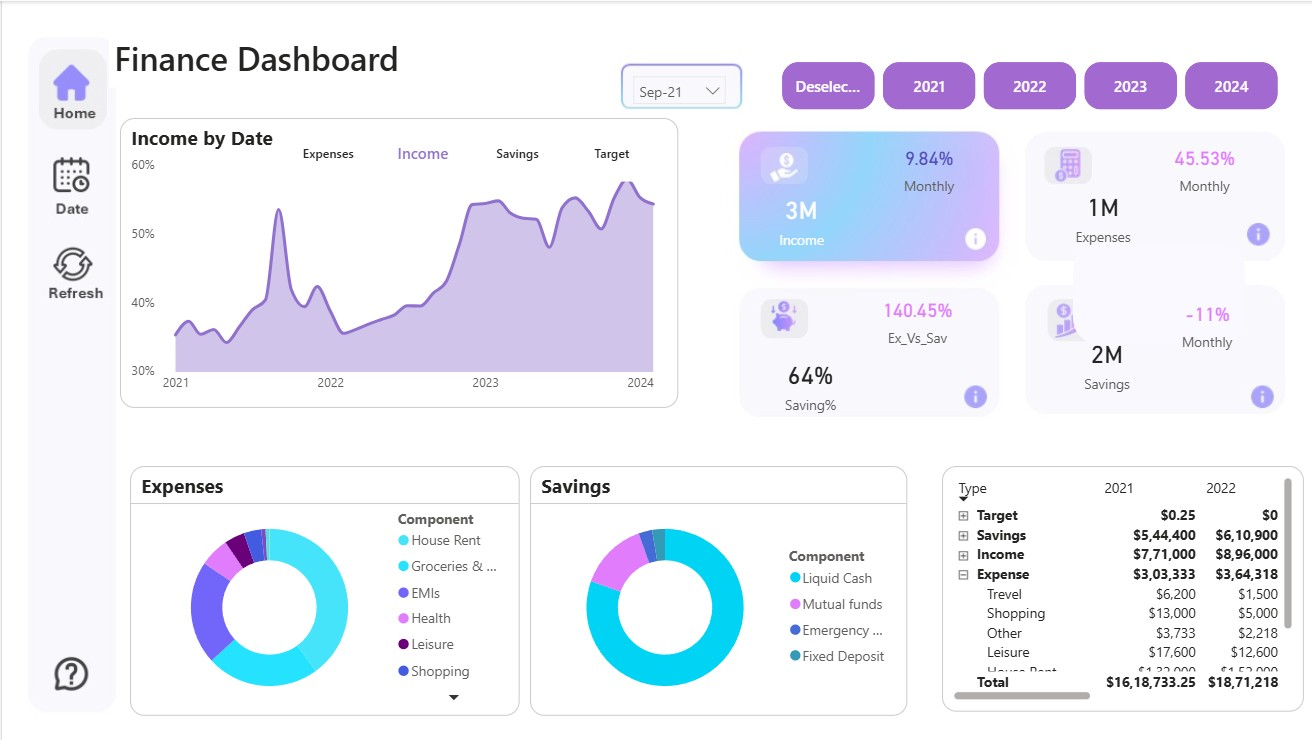

What the dashboard file says about the page in this screenshot:
{"tool":"powerbi","page":{"name":"Page 1","canvas":[1280,720],"ordinal":0},"visuals":[{"type":"shape","box":[1041.7,236.4,167.3,97.3],"z":0},{"type":"areaChart","fields":{"Category":["Dataset.Date"],"Y":["Dataset.Line_chart_measure"]},"box":[114.8,113.8,542.7,282.1],"z":1000},{"type":"advancedSlicerVisual","fields":{"Values":["Line_selection_Table.Type"]},"box":[270,120,370,56.2],"z":2000},{"type":"card","fields":{"Values":["Dataset.Income"]},"box":[730.5,176,94.3,71],"z":3000},{"type":"card","fields":{"Values":["Dataset.Savings"]},"box":[1032,310.3,85.6,82.7],"z":4000},{"type":"card","fields":{"Values":["Dataset.Exprnses"]},"box":[1031,170.2,79.8,76.8],"z":5000},{"type":"card","fields":{"Values":["Dataset.Saving%"]},"box":[743.1,333.6,86.6,75.9],"z":6000},{"type":"advancedSlicerVisual","fields":{"Values":["Dataset.Year"]},"box":[753.8,54.5,496,56.4],"z":7000},{"type":"donutChart","title":"Expenses ","fields":{"Category":["Dataset.Component"],"Y":["Dataset.Expenses"]},"box":[124.5,452.3,379.3,243.2],"z":8000},{"type":"donutChart","title":"Savings  ","fields":{"Y":["Dataset.Savings"],"Category":["Dataset.Component"]},"box":[513.6,452.3,366.7,243.2],"z":9000},{"type":"pivotTable","fields":{"Values":["Dataset.Total_Value"],"Rows":["Dataset.Type","Dataset.Component"],"Columns":["Dataset.Year"]},"box":[914.3,452.3,352.1,239.3],"z":10000},{"type":"textbox","box":[104.1,28.2,354,56.4],"z":11000},{"type":"slicer","fields":{"Values":["Selected_Date.Month_Yr"]},"box":[604,63.2,109.9,37.9],"z":12000},{"type":"card","fields":{"Values":["Dataset.Income_Monthly_Gr"]},"box":[852,123.5,99.2,76.8],"z":13000},{"type":"card","fields":{"Values":["Dataset.Expenses_Monthly_Gr"]},"box":[1125.3,130.3,88.5,63.2],"z":14000},{"type":"card","fields":{"Values":["Dataset.Savings_Monthly_Gr"]},"box":[1135.1,276.2,73.9,75.9],"z":15000},{"type":"card","fields":{"Values":["Dataset.Ex_Vs_Sav"]},"box":[829.7,254.8,121.6,110.9],"z":16000},{"type":"actionButton","box":[41.8,140.9,52.7,57.3],"z":17000},{"type":"actionButton","box":[41.8,236.4,52.7,54.5],"z":19000}]}

Visuals, with their boxes on the page's 1280x720 design canvas (x1, y1, x2, y2). These are canvas units, not pixel positions in the 1312x740 screenshot, which may show the page scaled, cropped or inside an application window:
shape: region(1042, 236, 1209, 334)
areaChart - Dataset.Date x Dataset.Line_chart_measure: region(115, 114, 658, 396)
advancedSlicerVisual - Line_selection_Table.Type: region(270, 120, 640, 176)
card - Dataset.Income: region(730, 176, 825, 247)
card - Dataset.Savings: region(1032, 310, 1118, 393)
card - Dataset.Exprnses: region(1031, 170, 1111, 247)
card - Dataset.Saving%: region(743, 334, 830, 410)
advancedSlicerVisual - Dataset.Year: region(754, 54, 1250, 111)
"Expenses " donutChart: region(124, 452, 504, 696)
"Savings  " donutChart: region(514, 452, 880, 696)
pivotTable - Dataset.Total_Value x Dataset.Type: region(914, 452, 1266, 692)
textbox: region(104, 28, 458, 85)
slicer - Selected_Date.Month_Yr: region(604, 63, 714, 101)
card - Dataset.Income_Monthly_Gr: region(852, 124, 951, 200)
card - Dataset.Expenses_Monthly_Gr: region(1125, 130, 1214, 194)
card - Dataset.Savings_Monthly_Gr: region(1135, 276, 1209, 352)
card - Dataset.Ex_Vs_Sav: region(830, 255, 951, 366)
actionButton: region(42, 141, 94, 198)
actionButton: region(42, 236, 94, 291)
